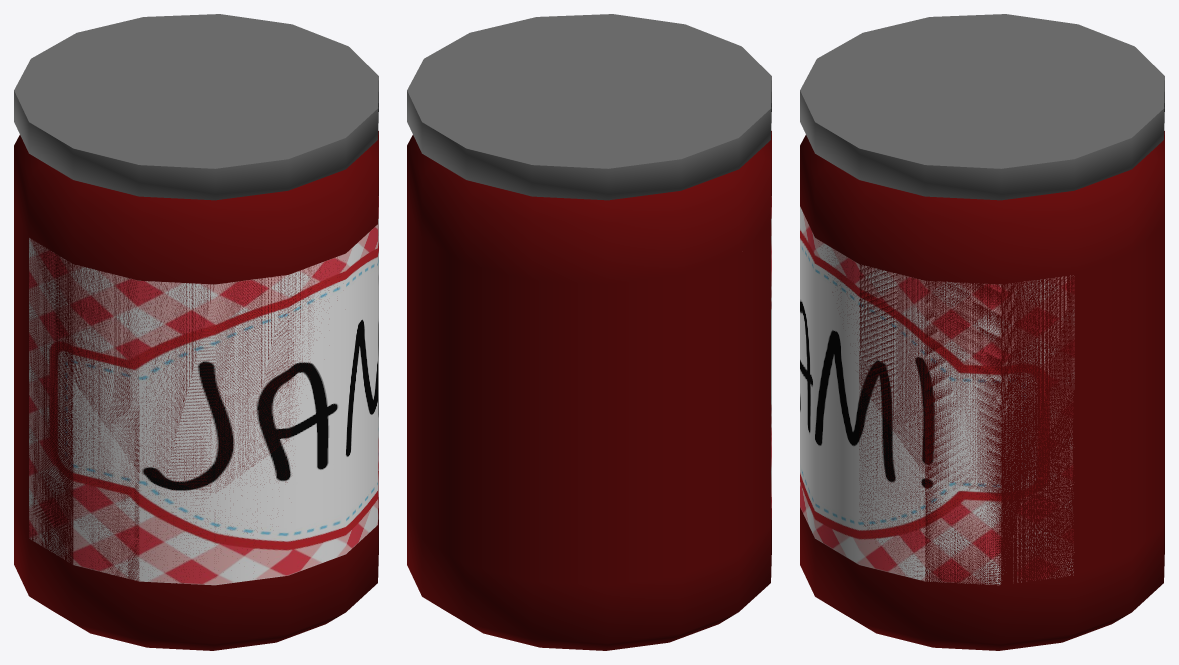
File: Jam_Jar.fbx
The picture shows the model from 3 angles, left to right: view 1: azimuth 30°, elevation 25°; view 2: azimuth 150°, elevation 25°; view 3: azimuth 270°, elevation 25°; orthographic projection.
Visible parts, largest first — view 1: Jam Lable, Jam Jar, Lid; view 2: Jam Jar, Lid; view 3: Jam Jar, Jam Lable, Lid.
Part boxes in pixels (x1,y1,x2,y2): Jam Lable: [29, 196, 378, 585]; Jam Jar: [14, 131, 378, 650]; Lid: [14, 14, 378, 200]; Jam Jar: [407, 131, 771, 650]; Lid: [407, 14, 771, 200]; Jam Jar: [800, 131, 1164, 650]; Jam Lable: [800, 206, 1074, 585]; Lid: [800, 14, 1164, 200].
Size of the model in its own units: 5.65 by 8.38 by 5.63.
Materials: 3 (1 with a texture image).
